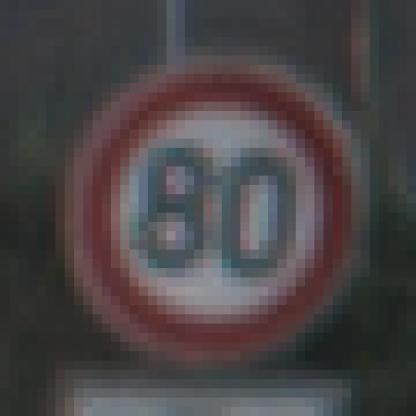Speed Limit 80: (80, 70, 350, 357)
